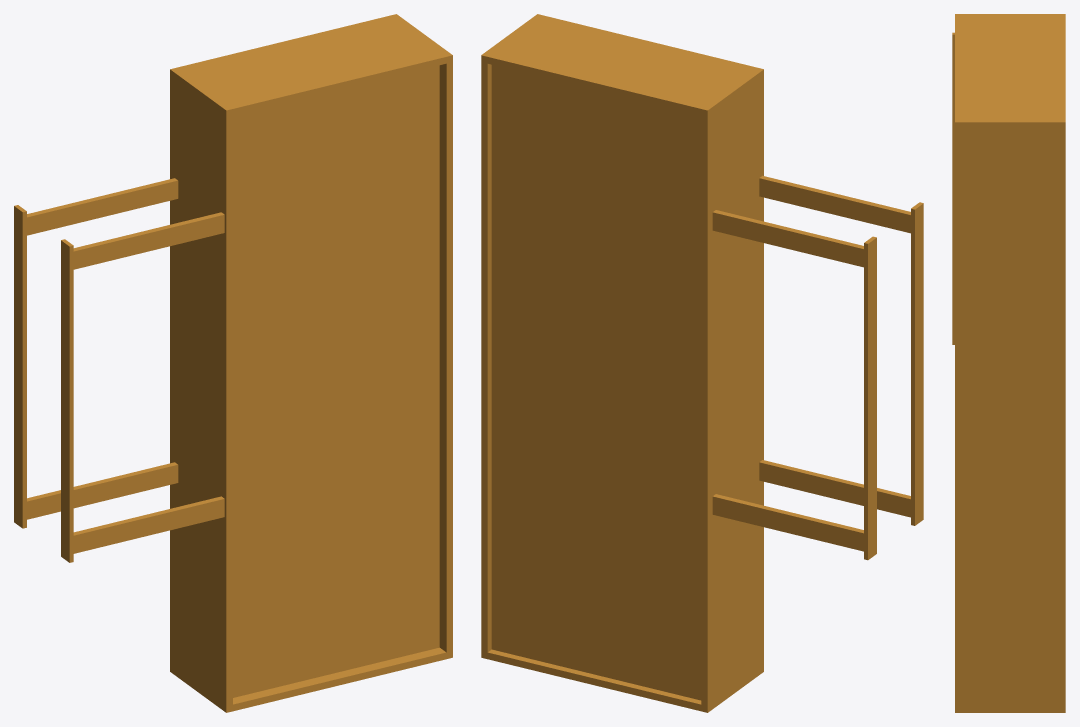
The model's file is SM_sign_japan_01.fbx.
The picture shows the model from 3 angles, left to right: view 1: azimuth 30°, elevation 25°; view 2: azimuth 150°, elevation 25°; view 3: azimuth 270°, elevation 25°; orthographic projection. The views are drawn at different scales.
Visible parts, largest first — view 1: Box102; view 2: Box102; view 3: Box102.
Boxes of the visible parts, x1,y1,x2,y2 form: Box102: [14, 14, 452, 712]; Box102: [481, 14, 923, 712]; Box102: [952, 14, 1065, 712].
Bounding box in the file's own units: 55.87 × 14.55 × 83.58.
